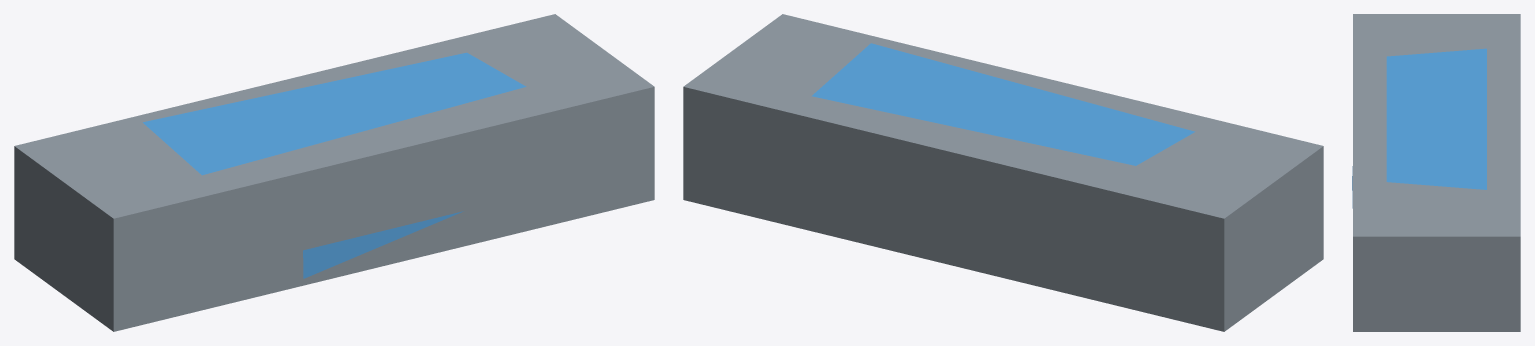
File: AL_HorizonCarrier_LOD1.glb
3 views of the same model, side by side, from view 1: azimuth 30°, elevation 25°; view 2: azimuth 150°, elevation 25°; view 3: azimuth 270°, elevation 25° (orthographic). The views are drawn at different scales.
Visible parts, largest first — view 1: EntranceGate; view 2: EntranceGate; view 3: EntranceGate.
Part boxes in pixels (x1,y1,x2,y2): EntranceGate: (14, 14, 654, 331); EntranceGate: (683, 14, 1323, 331); EntranceGate: (1352, 14, 1520, 331).
Size of the model in its own units: 2200 by 486 by 703.
